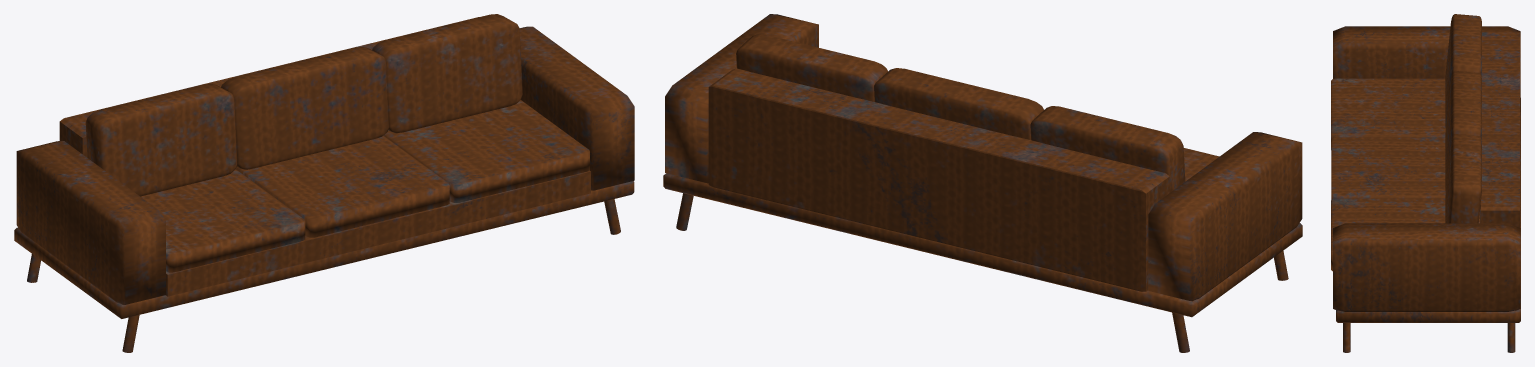
The model's file is Asset_Canapé.fbx.
3 views of the same model, side by side, from view 1: azimuth 30°, elevation 25°; view 2: azimuth 150°, elevation 25°; view 3: azimuth 270°, elevation 25° (orthographic). The views are drawn at different scales.
Visible parts, largest first — view 1: couch; view 2: couch; view 3: couch.
Part boxes in pixels (bbox=[...]): couch: bbox=[14, 14, 634, 352]; couch: bbox=[663, 14, 1302, 352]; couch: bbox=[1331, 14, 1520, 352].
Bounding box in the file's own units: 245 × 80.2 × 90.87.
Materials: 1 (1 with a texture image).
